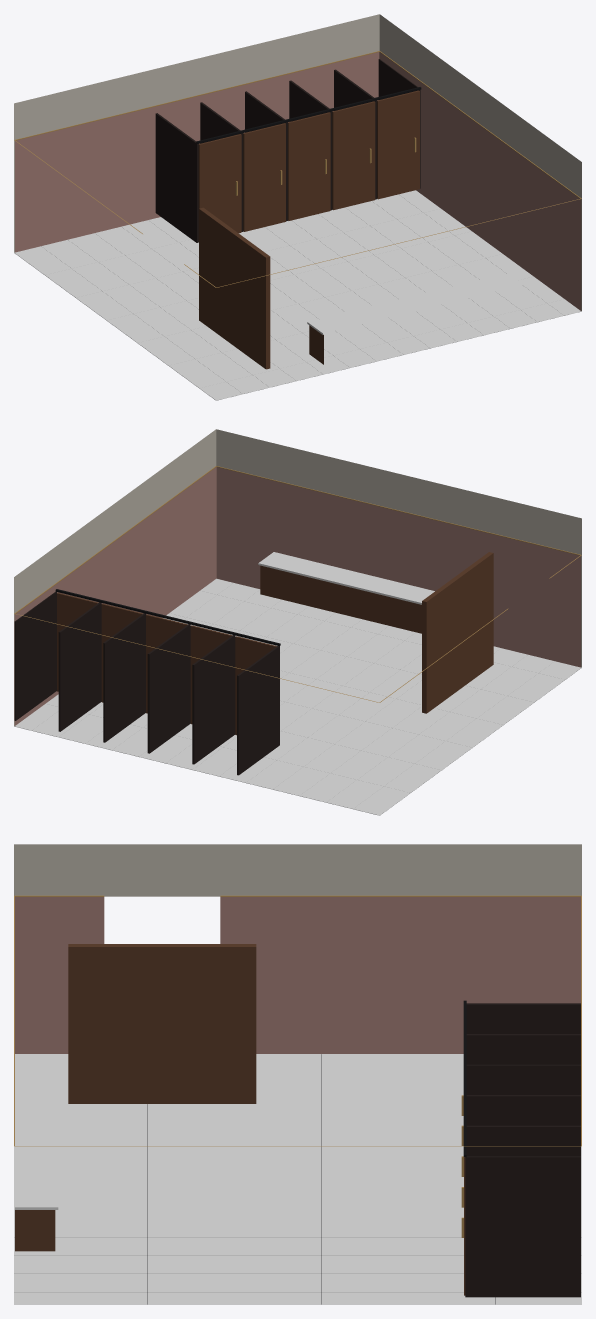
Rendered from wcF.glb.
The picture shows the model from 3 angles, top to bottom: view 1: azimuth 30°, elevation 25°; view 2: azimuth 150°, elevation 25°; view 3: azimuth 270°, elevation 25°; orthographic projection. The views are drawn at different scales.
Parts seen in each view (by area): view 1: wcF; view 2: wcF; view 3: wcF.
Boxes of the visible parts, x1,y1,x2,y2 form: wcF: [14, 14, 581, 400]; wcF: [14, 429, 581, 815]; wcF: [14, 844, 581, 1304].
Bounding box in the file's own units: 8.21 × 3.2 × 7.85.
